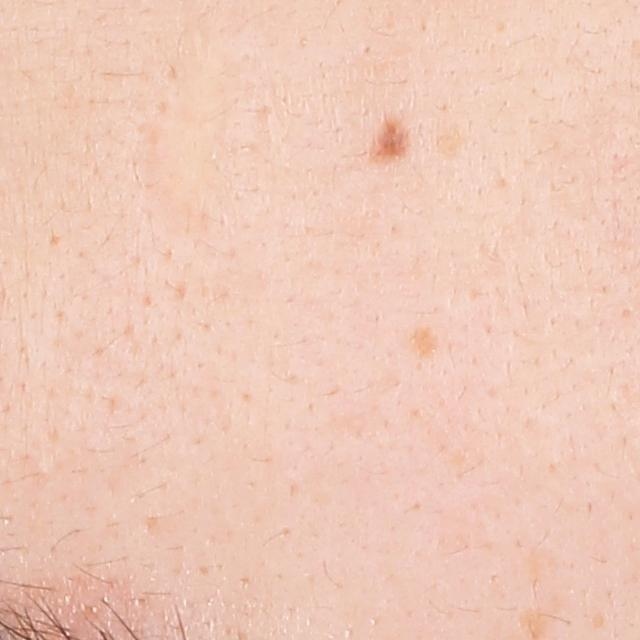nevus: (366, 116, 406, 164)
